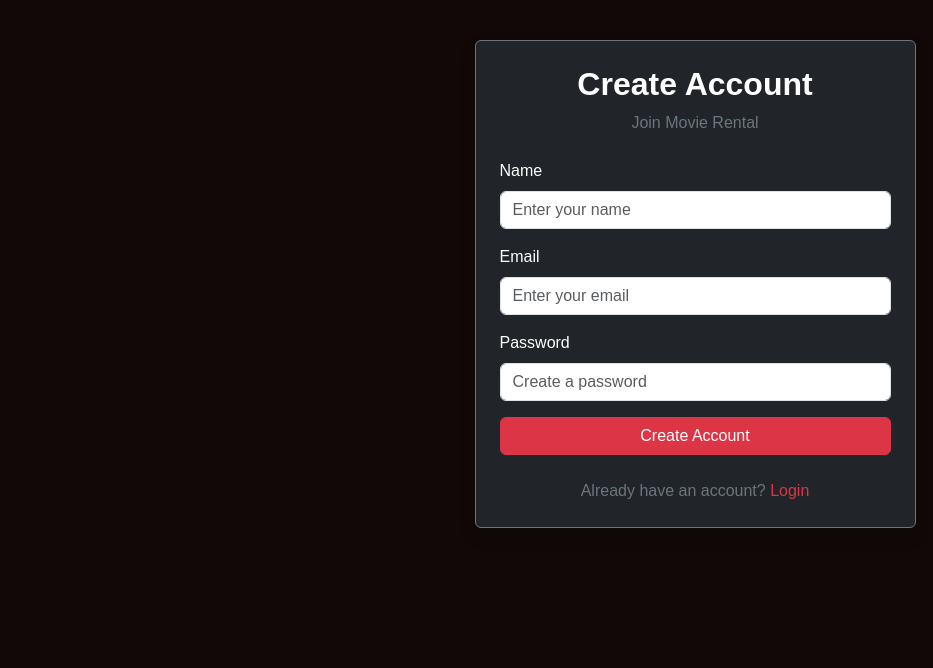
Test: Register › navigates to login after successful registration
Type "Bhavesh Patil" into the field with placeholder "Enter your name" at [695, 210], box [500,191,890,229]
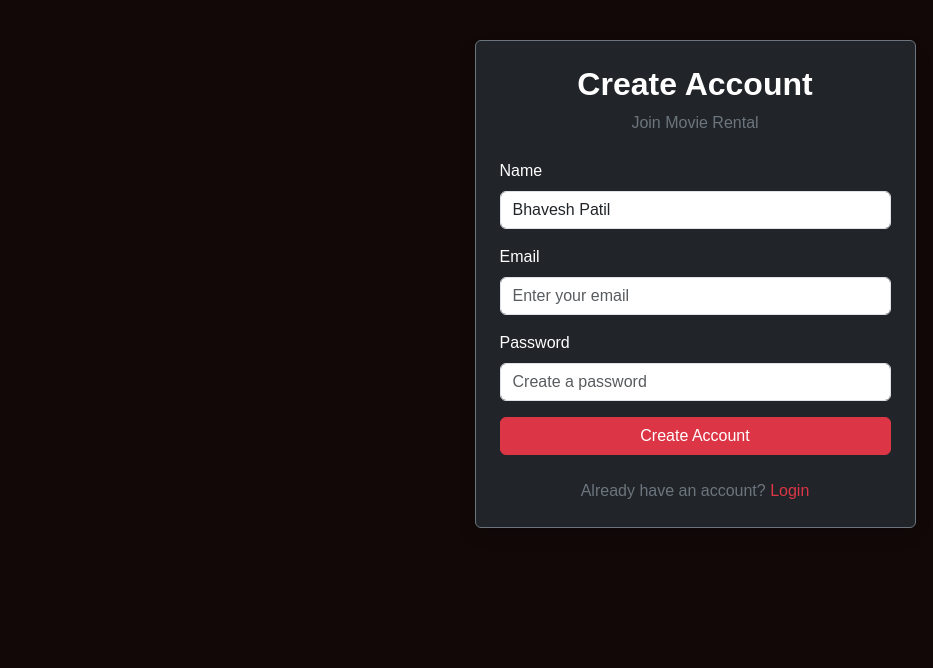
Type "bhavesh@example.com" into the field with placeholder "Enter your email" at [695, 296], box [500,277,890,315]
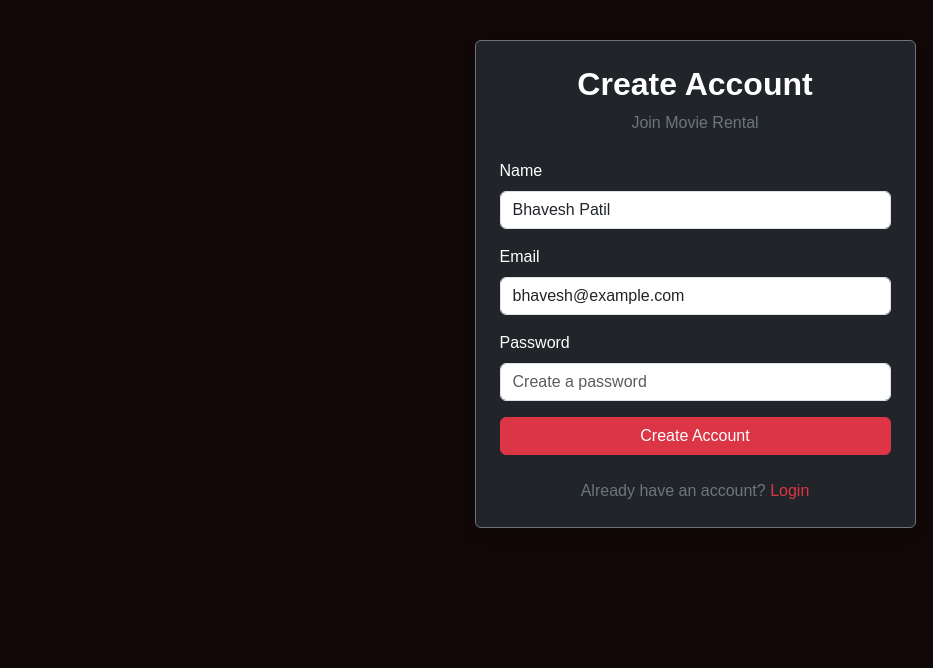
Type "password123" into the password field with placeholder "Create a password" at [695, 382], box [500,363,890,401]
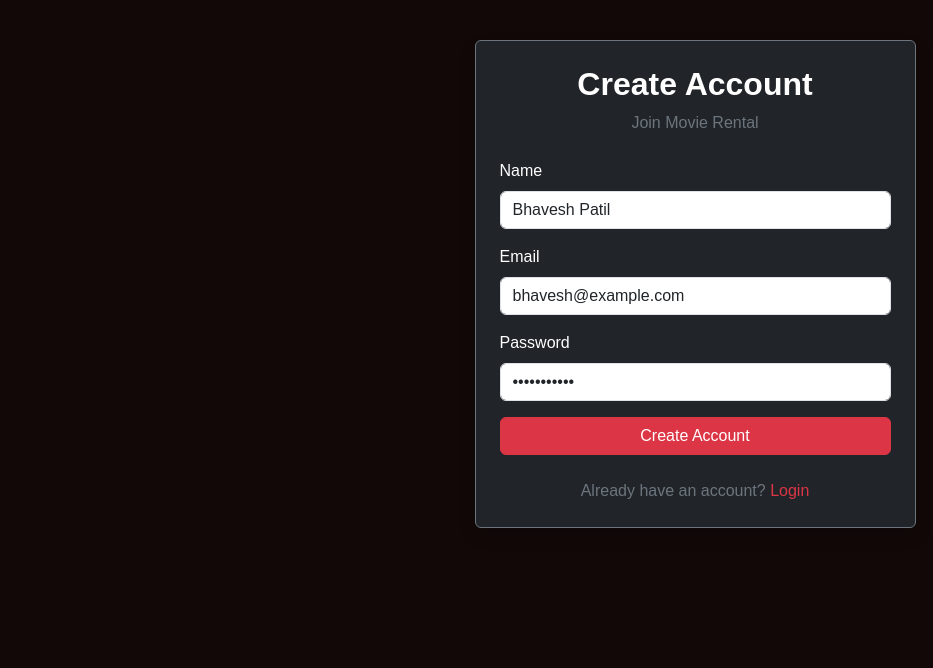
Click the button "Create Account" at [695, 436], box [500,417,890,455]
(page scrolled)
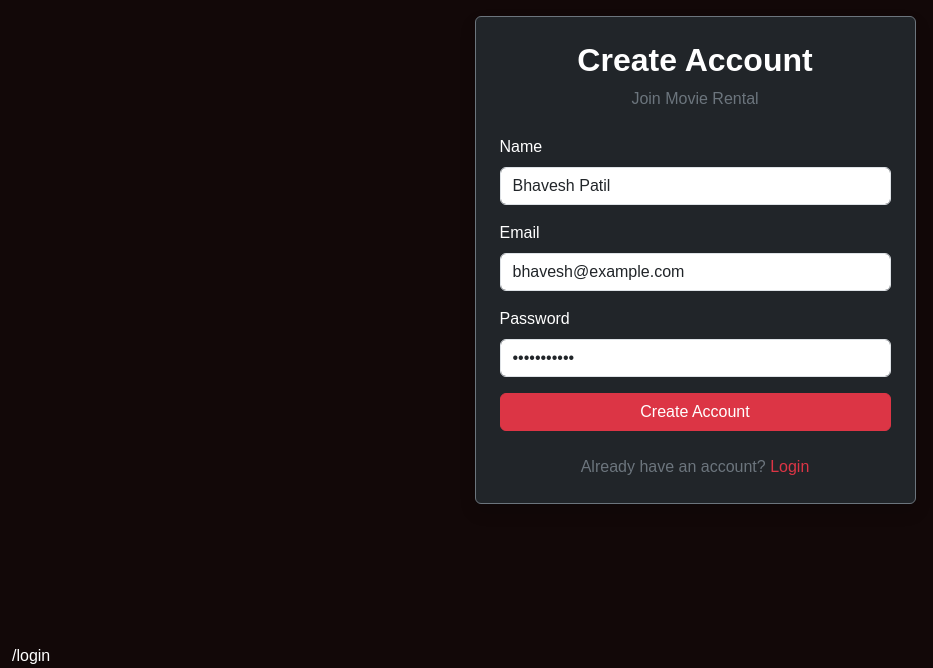
Expected: the text with test id "location" reads "/login", [12,647,50,664]
